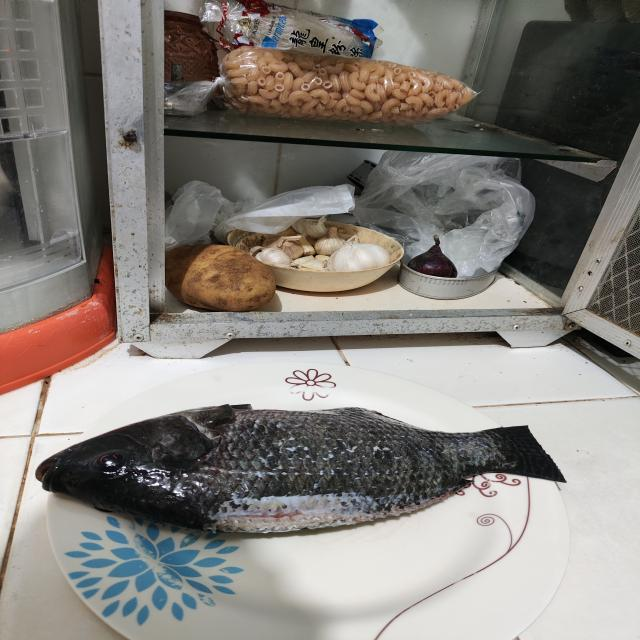fish: (33, 406, 564, 539)
garlic: (258, 218, 395, 283)
onion: (411, 241, 457, 285)
potato: (160, 245, 275, 311)
